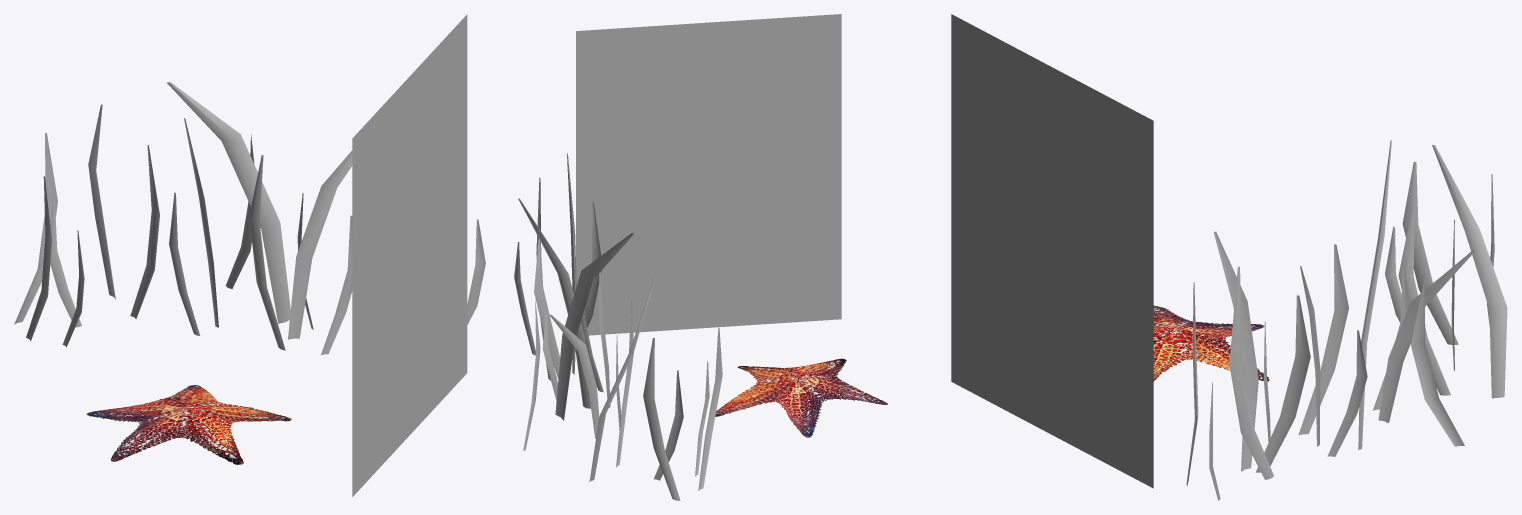
The model's file is CoralReefs02.FBX.
The picture shows the model from 3 angles, left to right: view 1: azimuth 30°, elevation 25°; view 2: azimuth 150°, elevation 25°; view 3: azimuth 270°, elevation 25°; orthographic projection. The views are drawn at different scales.
Parts seen in each view (by area): view 1: Object001, Object002, Plane001; view 2: Object001, Object002, Plane001; view 3: Object001, Object002, Plane001.
Part boxes in pixels (left/top/right/bottom): Object001: left=352, top=14, right=467, bottom=496; Object002: left=14, top=82, right=485, bottom=355; Plane001: left=86, top=385, right=291, bottom=464; Object001: left=576, top=14, right=841, bottom=335; Object002: left=514, top=153, right=722, bottom=500; Plane001: left=715, top=358, right=887, bottom=437; Object001: left=951, top=14, right=1153, bottom=488; Object002: left=1186, top=140, right=1507, bottom=500; Plane001: left=1153, top=305, right=1269, bottom=381.
Bounding box in the file's own units: 83.44 × 71.44 × 96.35.
